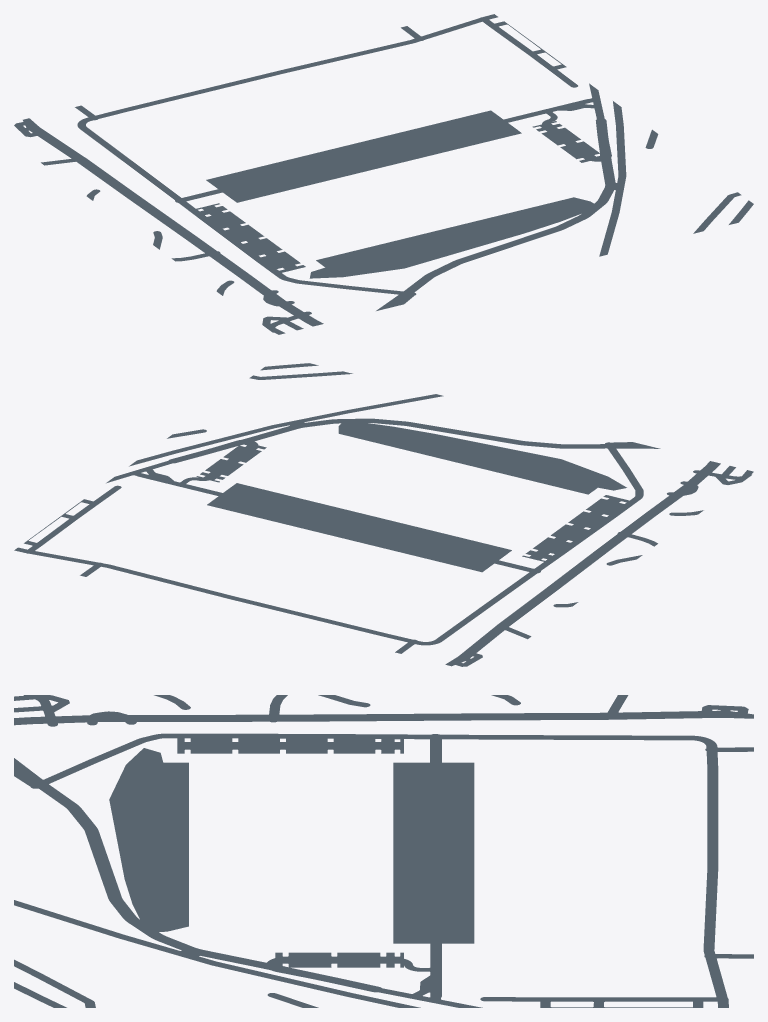
The model's file is SM_MPR_Env_Near_Roads.fbx.
3 renders of one model, top to bottom at view 1: azimuth 30°, elevation 25°; view 2: azimuth 150°, elevation 25°; view 3: azimuth 270°, elevation 25°, orthographic. The views are drawn at different scales.
Visible parts, largest first — view 1: SM_MPR_Env_Near_Roads; view 2: SM_MPR_Env_Near_Roads; view 3: SM_MPR_Env_Near_Roads.
Boxes of the visible parts, x1=… form: SM_MPR_Env_Near_Roads: x1=14, y1=14, x2=753, y2=334; SM_MPR_Env_Near_Roads: x1=14, y1=363, x2=753, y2=666; SM_MPR_Env_Near_Roads: x1=14, y1=695, x2=753, y2=1007.
Size of the model in its own units: 57500 by 57500 by 0.
